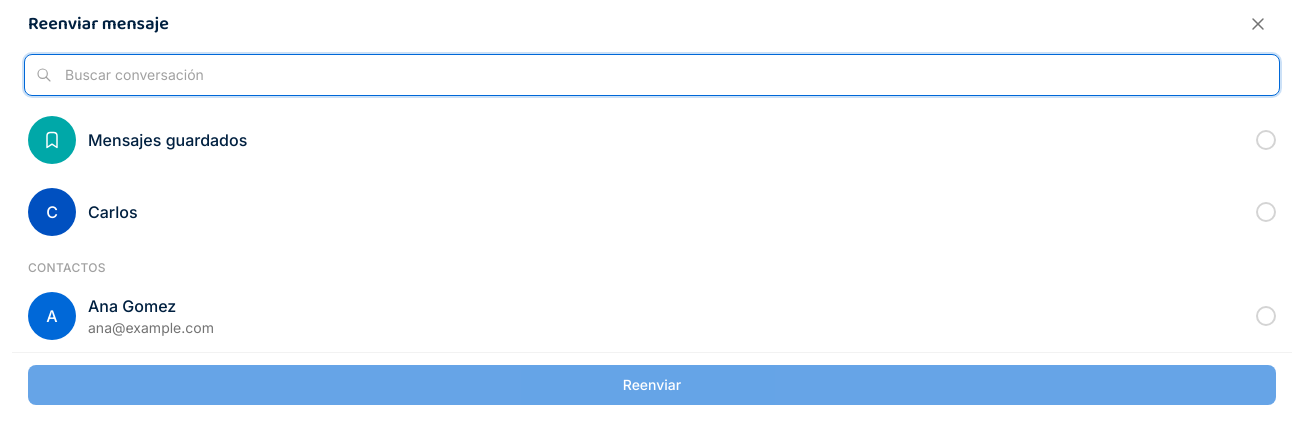
ForwardMessageModal › mantiene visibles las conversaciones y contactos seleccionados al cambiar los parámetros de búsqueda
Expected: the text "Ana Gomez" is shown, [88,296,176,316]
# Seleccionamos Carlos
Click the text "Carlos" at (113, 212), box [88,202,138,222]
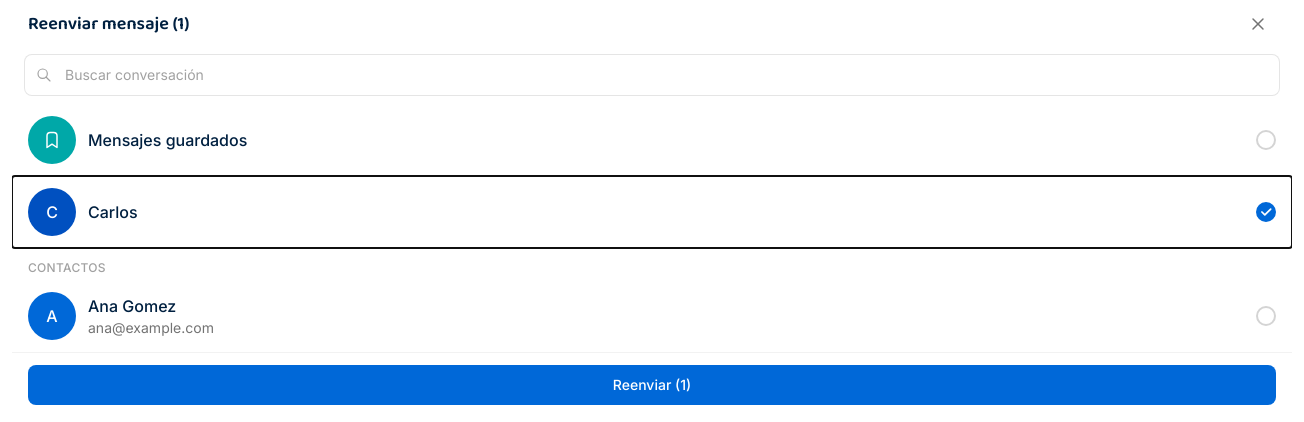
Expected: the button "Reenviar (1)" is shown, [28,365,1276,405]
Type "Ana" into the field with placeholder "Buscar conversación" at (652, 75), box [24,54,1280,96]
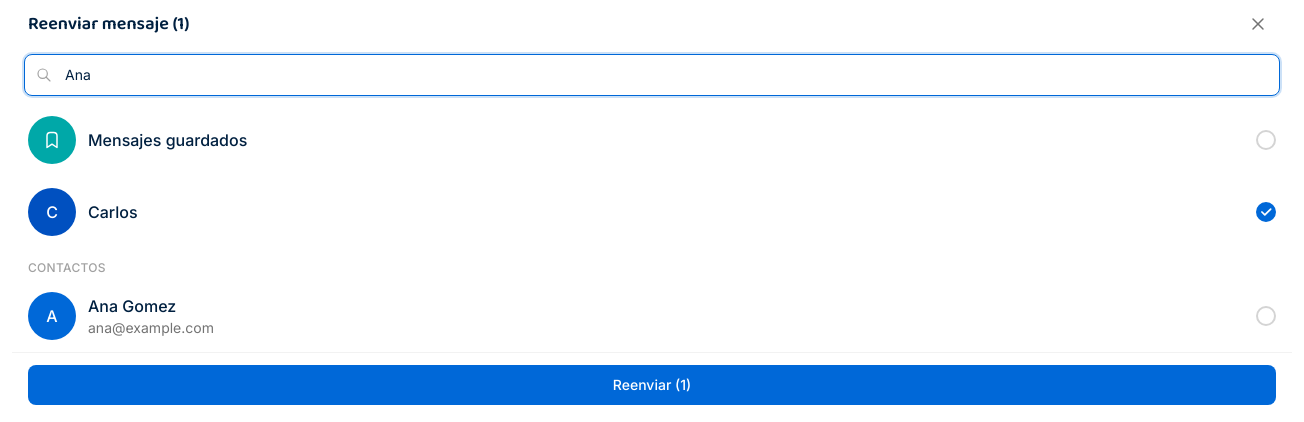
Expected: the text "Carlos" is shown, [88,202,138,222]
# Seleccionamos también a Ana Gomez
Click the text "Ana Gomez" at (132, 306), box [88,296,176,316]
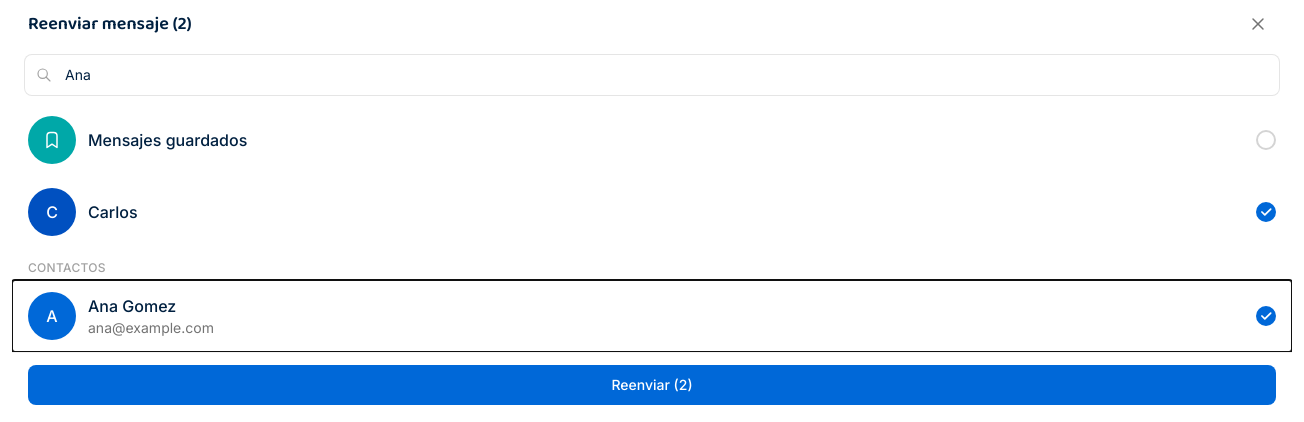
Expected: the button "Reenviar (2)" is shown, [28,365,1276,405]
# Cambiamos el parámetro de búsqueda a algo que no coincida con ninguno
Replace the text in the field with placeholder "Buscar conversación" with "NoExisteNadie" at (652, 75), box [24,54,1280,96]
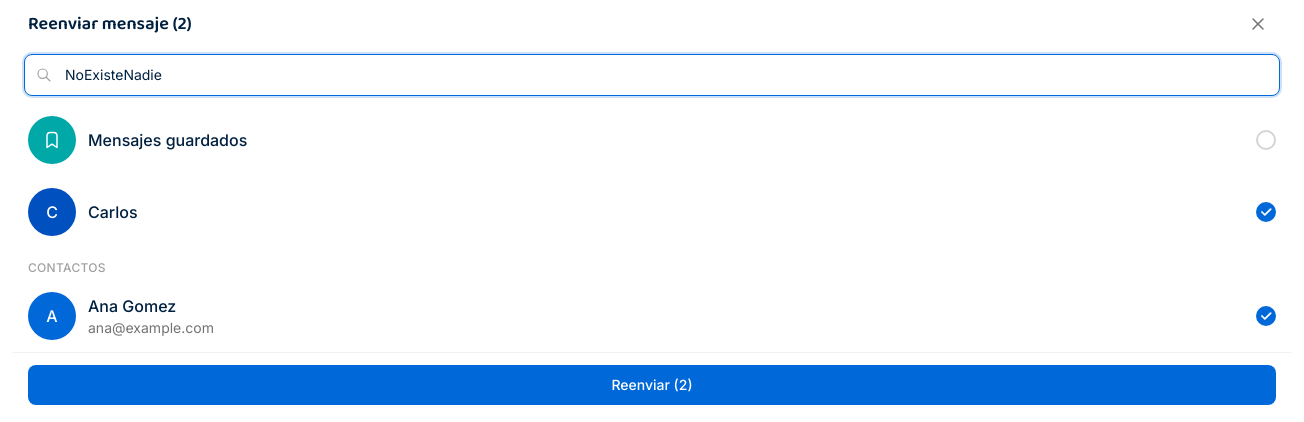
Expected: the text "Ana Gomez" is shown, [88,296,176,316]
# Si deseleccionamos a Carlos mientras la búsqueda no coincide con él, desaparece pero Ana sigue
Click the text "Carlos" at (113, 212), box [88,202,138,222]
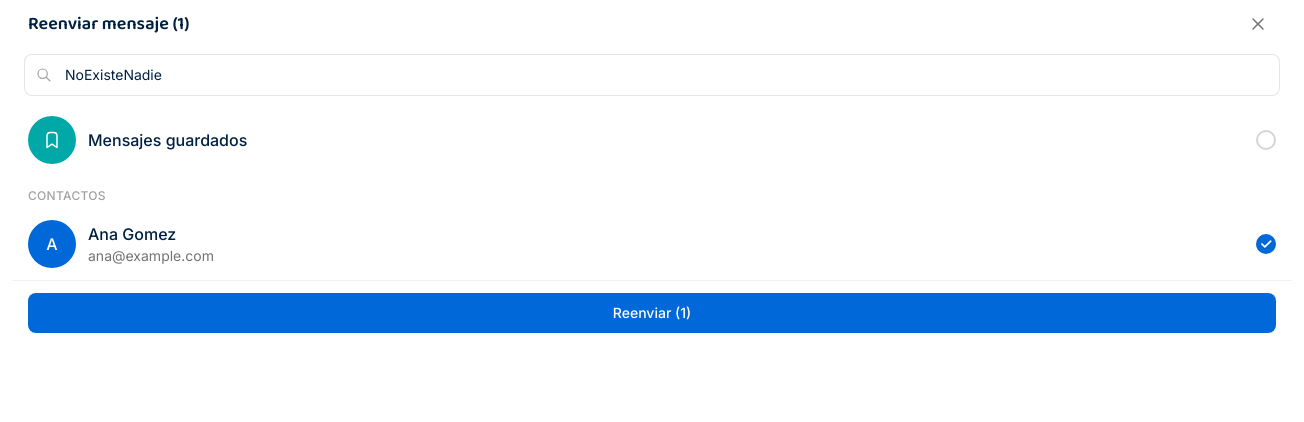
Expected: the text "Ana Gomez" is shown, [88,224,176,244]
Expected: the button "Reenviar (1)" is shown, [28,293,1276,333]
Expected: the button "Carlos" is gone
